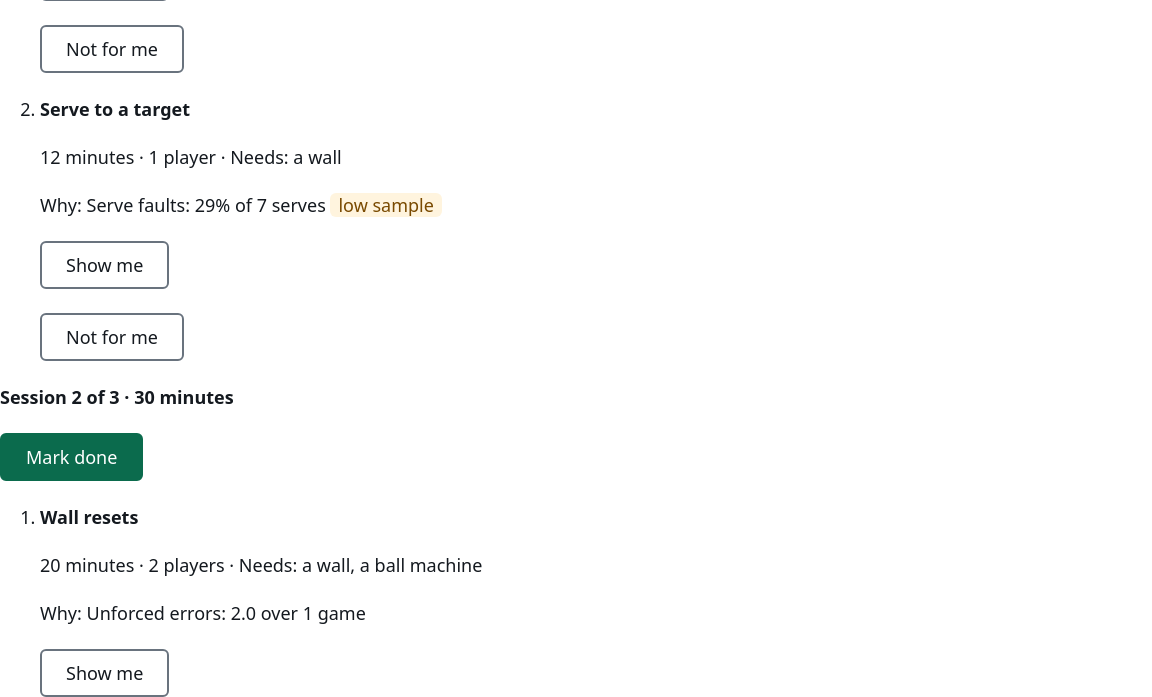
Test: Not for me (negative first) › 429 rate_limited keeps the dialog and the reason and says when to try again
(page scrolled)
Expected: the text "Serve to a target" is shown, x1=40 y1=97 x2=190 y2=121
Click the button with aria-label "Not for me, Serve to a target": {"x": 112, "y": 337} x1=40 y1=313 x2=184 y2=361
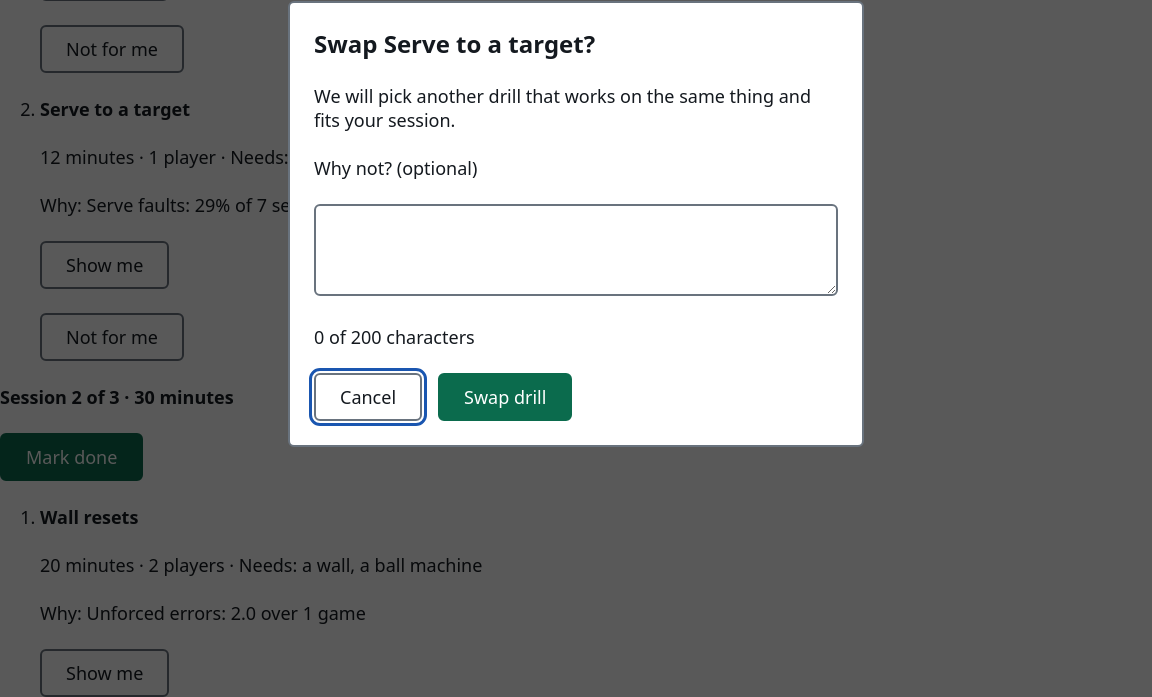
In the text box labelled "Why not? (optional)": {"x": 576, "y": 250} x1=314 y1=204 x2=838 y2=296, type "too hard"
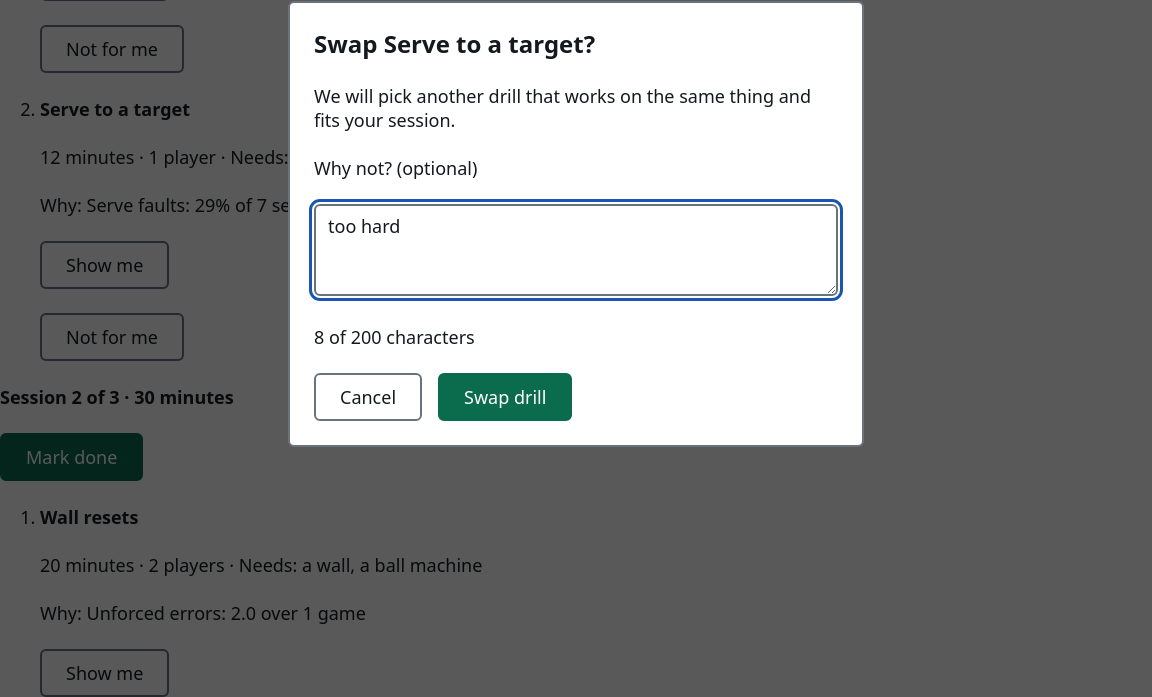
Click the button "Swap drill": {"x": 505, "y": 397} x1=438 y1=373 x2=572 y2=421
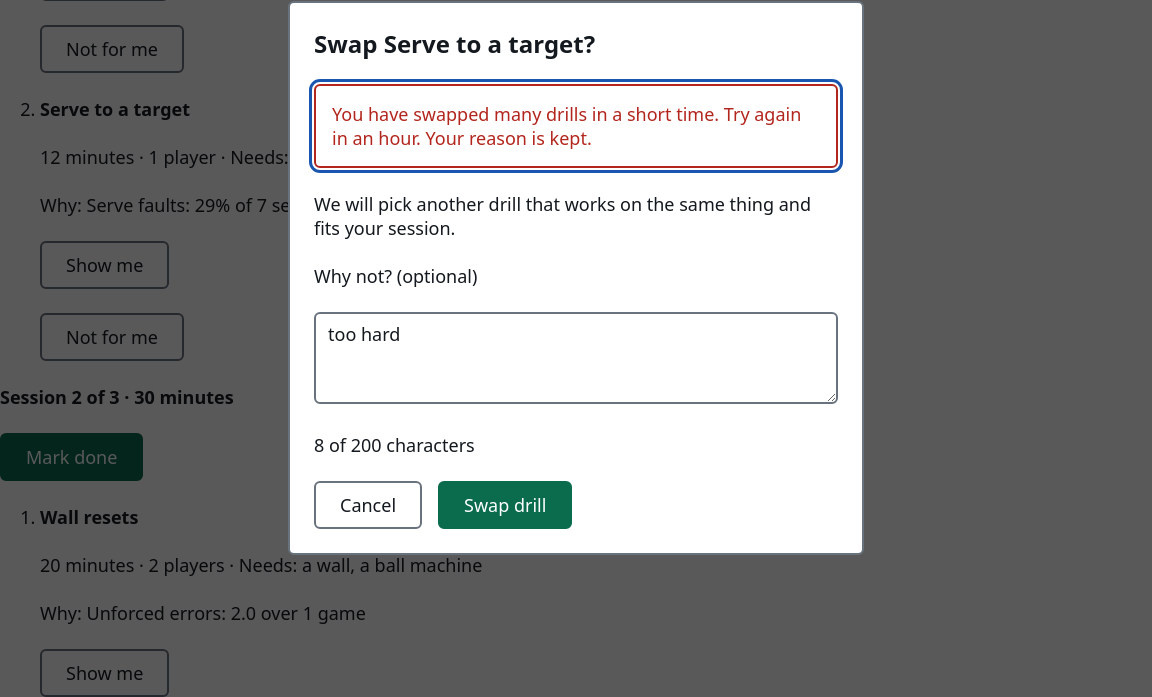
Expected: the message does not show "rate_limited", x1=314 y1=84 x2=838 y2=168
Expected: the message shows "You have swapped many drills in a short time. Try again in an hour.", x1=332 y1=102 x2=801 y2=150
